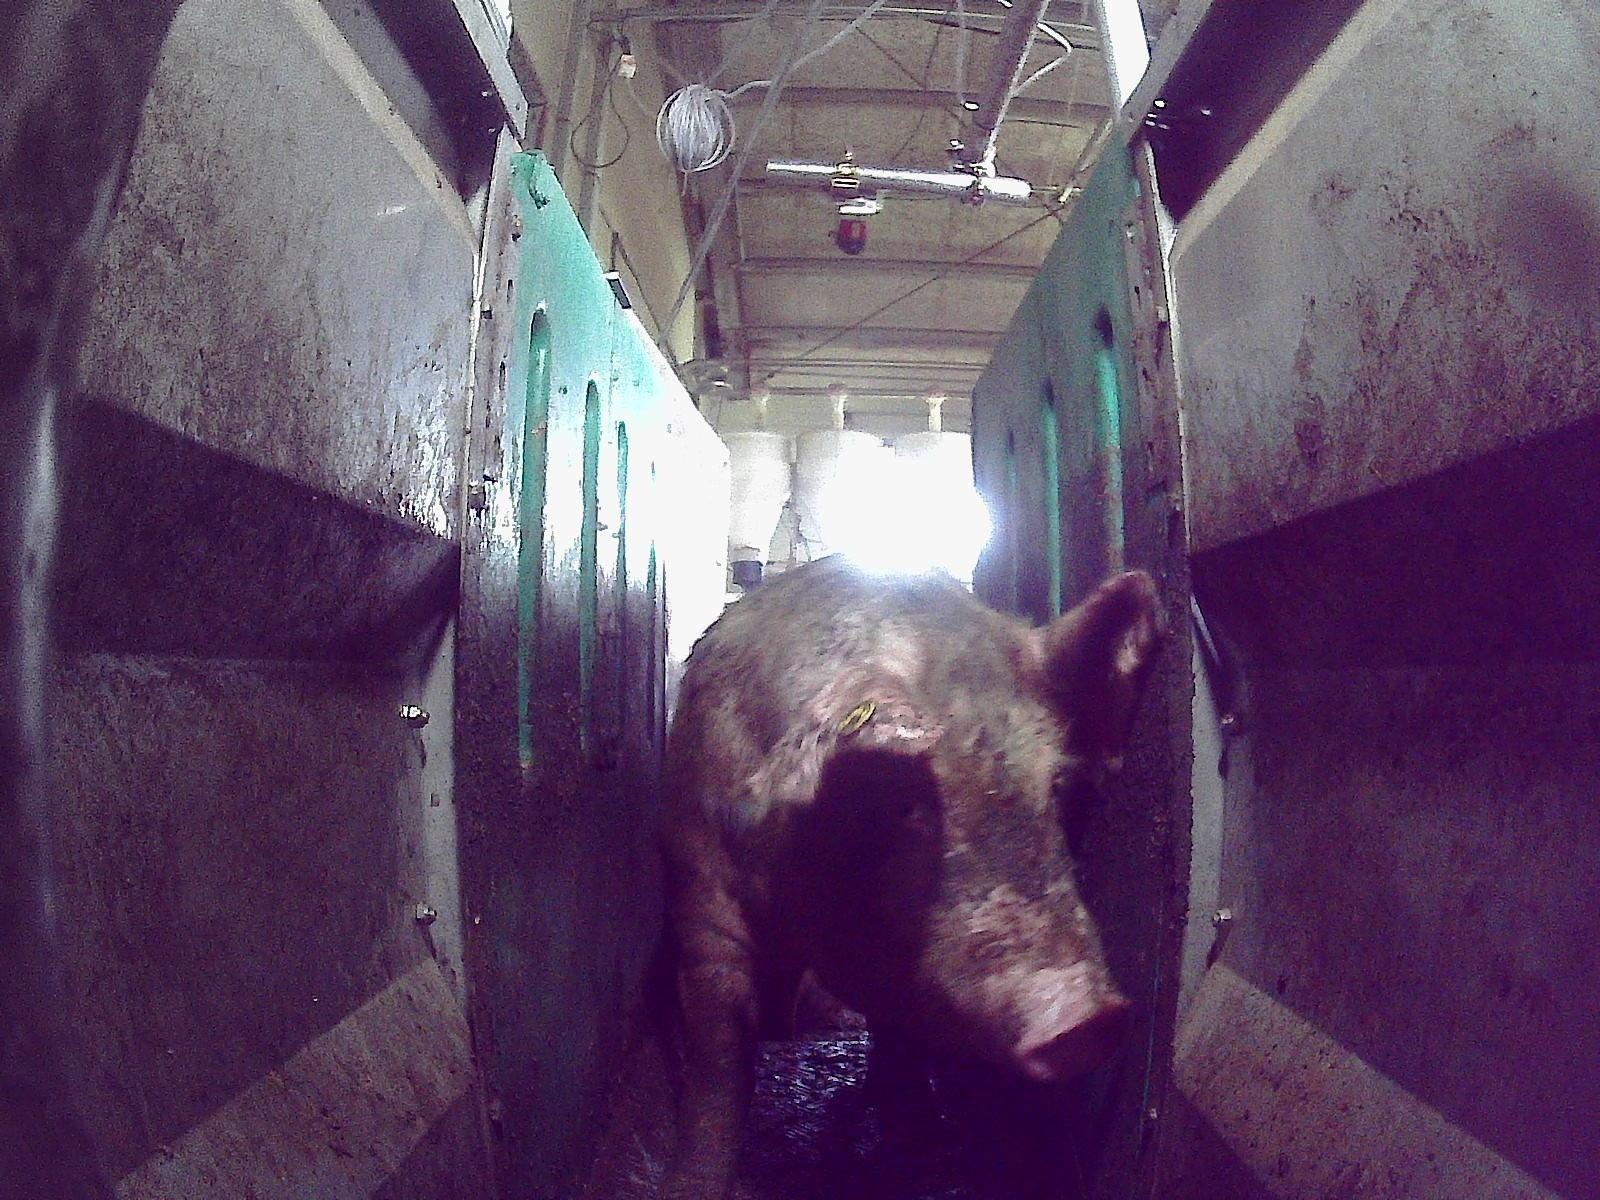Face: (763, 617, 1131, 1087)
